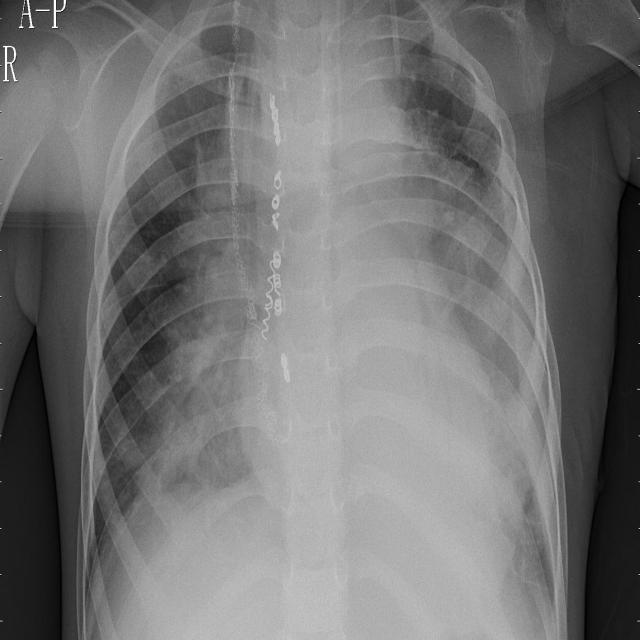high-pneumonia: (395, 121, 533, 413), (188, 39, 266, 332), (137, 310, 250, 496), (377, 4, 438, 193), (512, 407, 562, 584)
